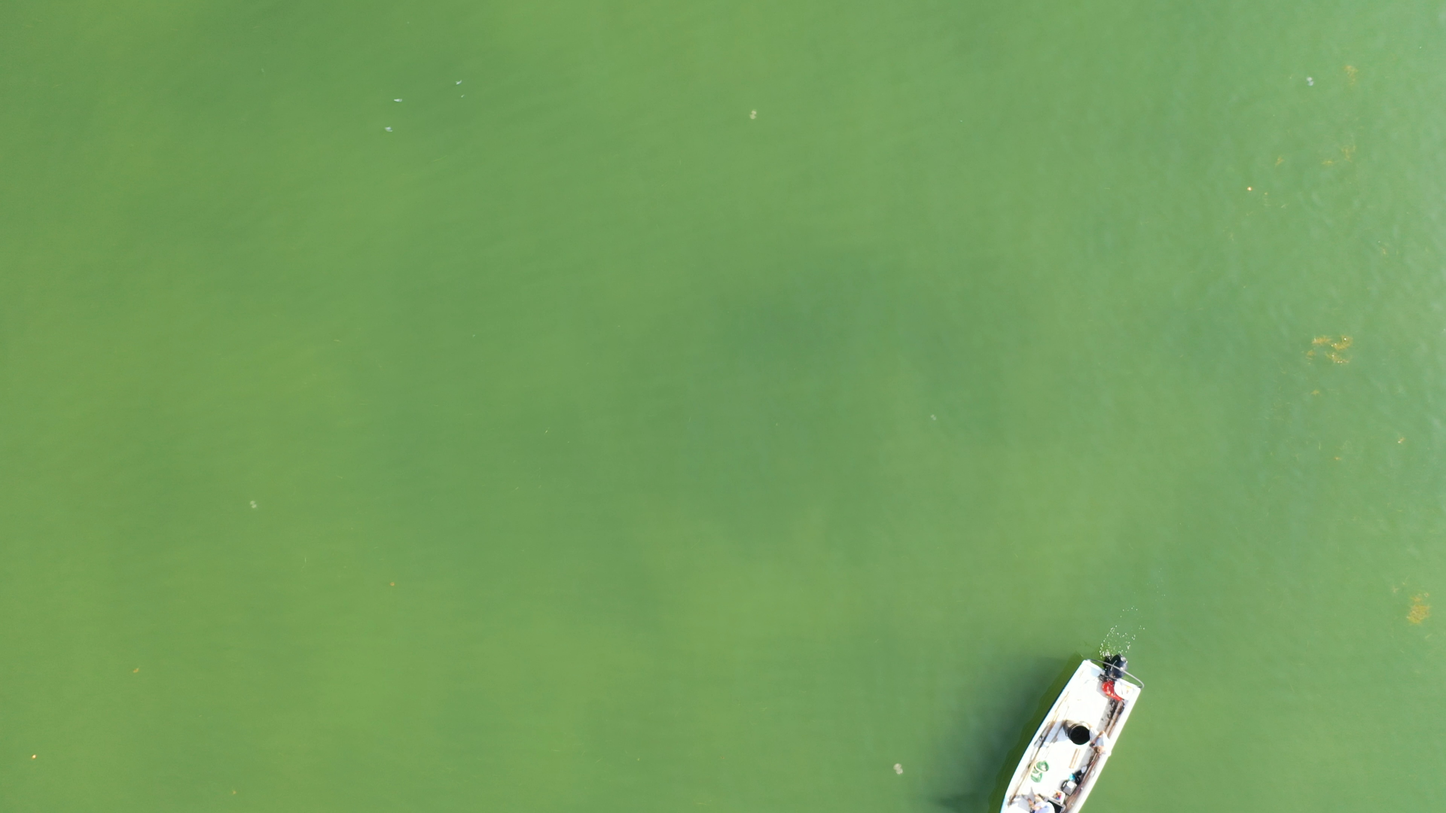meduse: (894, 763, 904, 776), (1306, 77, 1314, 87), (250, 500, 258, 509), (749, 110, 757, 119), (929, 413, 937, 420)
